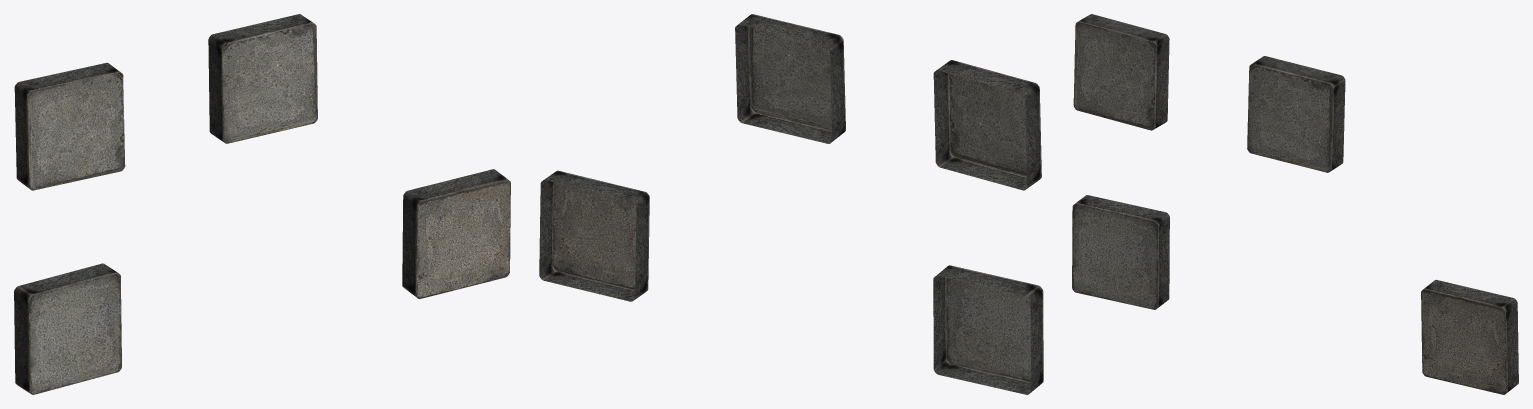
Rendered from hd_dec_UNI_003_PavingDirected_horizontal_01.glb.
The picture shows the model from 3 angles, left to right: view 1: azimuth 30°, elevation 25°; view 2: azimuth 150°, elevation 25°; view 3: azimuth 330°, elevation 25°; orthographic projection. The views are drawn at different scales.
Visible parts, largest first — view 1: set_0_group_0; view 2: set_0_group_0; view 3: set_0_group_0.
Boxes of the visible parts, box(x1,y1,x2,y2) form: set_0_group_0: box(14, 14, 510, 394); set_0_group_0: box(539, 14, 1043, 394); set_0_group_0: box(1072, 14, 1518, 394).
Size of the model in its own units: 2.49 by 1.49 by 0.1661.
1 material, 1 textured.
